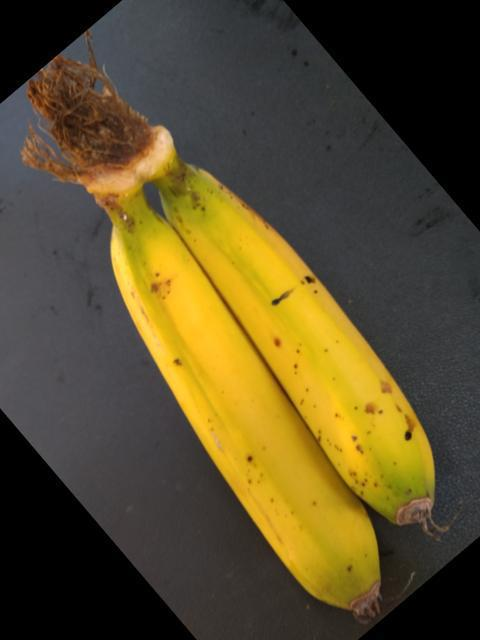freshripe: (80, 207, 387, 628)
ripe: (173, 143, 454, 521)
